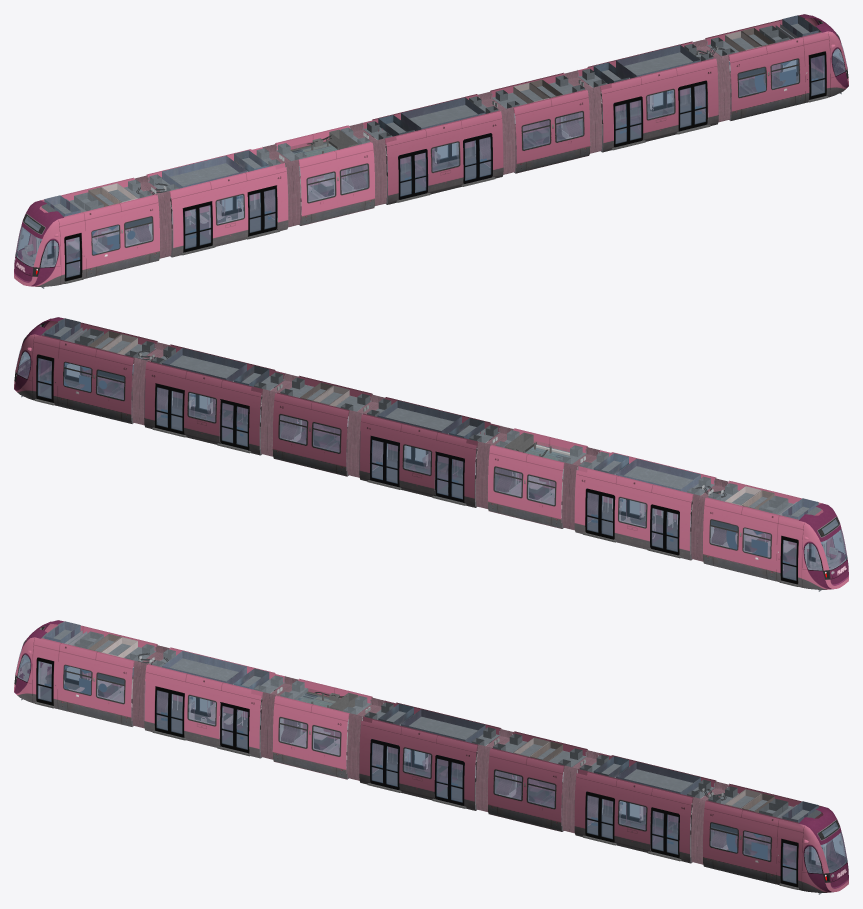
Rendered from tram.glb.
3 views of the same model, one above another, from view 1: azimuth 30°, elevation 25°; view 2: azimuth 150°, elevation 25°; view 3: azimuth 330°, elevation 25° (orthographic).
Parts seen in each view (by area): view 1: glink_seg1_lod0_glink_exterior01_0, glink_seg1_lod0.001_glink_exterior02_0, glink_seg4_lod0_glink_exterior03_0, glink_seg2_lod0.001_glink_exterior02_0, glink_seg2_lod0_glink_exterior01_0, glink_seg5_lod0_glink_exterior02_0, glink_seg3_lod0_glink_exterior01_0, glink_seg1_window_lod0.001_glink_exterior01_0, glink_seg2_mirror_lod0.002_glink_exterior01_0, glink_seg2_mirror_lod0_glink_exterior01_0, glink_seg2_mirror_lod0.001_glink_exterior01_0, glink_seg1_window_lod0_glink_exterior01_0 (+13 smaller); view 2: glink_seg1_lod0_glink_exterior01_0, glink_seg1_lod0.001_glink_exterior02_0, glink_seg4_lod0_glink_exterior03_0, glink_seg2_lod0.001_glink_exterior02_0, glink_seg2_lod0_glink_exterior01_0, glink_seg5_lod0_glink_exterior02_0, glink_seg3_lod0_glink_exterior01_0, glink_seg1_window_lod0.001_glink_exterior01_0, glink_seg2_mirror_lod0.002_glink_exterior01_0, glink_seg2_mirror_lod0_glink_exterior01_0, glink_seg2_mirror_lod0.001_glink_exterior01_0, glink_seg1_window_lod0_glink_exterior01_0 (+13 smaller); view 3: glink_seg1_lod0.001_glink_exterior02_0, glink_seg1_lod0_glink_exterior01_0, glink_seg4_lod0_glink_exterior03_0, glink_seg2_lod0.001_glink_exterior02_0, glink_seg2_lod0_glink_exterior01_0, glink_seg5_lod0_glink_exterior02_0, glink_seg3_lod0_glink_exterior01_0, glink_seg1_window_lod0_glink_exterior01_0, glink_seg2_mirror_lod0.002_glink_exterior01_0, glink_seg2_mirror_lod0.001_glink_exterior01_0, glink_seg2_mirror_lod0_glink_exterior01_0, glink_seg1_window_lod0.001_glink_exterior01_0 (+13 smaller).
Boxes of the visible parts, x1=… form: glink_seg1_lod0_glink_exterior01_0: x1=14, y1=177, x2=159, y2=286; glink_seg1_lod0.001_glink_exterior02_0: x1=705, y1=14, x2=848, y2=120; glink_seg4_lod0_glink_exterior03_0: x1=362, y1=94, x2=503, y2=204; glink_seg2_lod0.001_glink_exterior02_0: x1=578, y1=41, x2=718, y2=152; glink_seg2_lod0_glink_exterior01_0: x1=146, y1=147, x2=288, y2=257; glink_seg5_lod0_glink_exterior02_0: x1=490, y1=72, x2=590, y2=173; glink_seg3_lod0_glink_exterior01_0: x1=275, y1=125, x2=374, y2=225; glink_seg1_window_lod0.001_glink_exterior01_0: x1=15, y1=216, x2=152, y2=267; glink_seg2_mirror_lod0.002_glink_exterior01_0: x1=348, y1=93, x2=508, y2=204; glink_seg2_mirror_lod0_glink_exterior01_0: x1=564, y1=40, x2=724, y2=152; glink_seg2_mirror_lod0.001_glink_exterior01_0: x1=133, y1=145, x2=293, y2=257; glink_seg1_window_lod0_glink_exterior01_0: x1=729, y1=43, x2=847, y2=96; glink_seg1_lod0_glink_exterior01_0: x1=703, y1=480, x2=848, y2=589; glink_seg1_lod0.001_glink_exterior02_0: x1=14, y1=317, x2=157, y2=423; glink_seg4_lod0_glink_exterior03_0: x1=359, y1=397, x2=500, y2=507; glink_seg2_lod0.001_glink_exterior02_0: x1=144, y1=344, x2=284, y2=455; glink_seg2_lod0_glink_exterior01_0: x1=574, y1=450, x2=716, y2=560; glink_seg5_lod0_glink_exterior02_0: x1=272, y1=375, x2=372, y2=476; glink_seg3_lod0_glink_exterior01_0: x1=488, y1=428, x2=587, y2=528; glink_seg1_window_lod0.001_glink_exterior01_0: x1=710, y1=519, x2=847, y2=570; glink_seg2_mirror_lod0.002_glink_exterior01_0: x1=354, y1=396, x2=514, y2=507; glink_seg2_mirror_lod0_glink_exterior01_0: x1=139, y1=343, x2=298, y2=455; glink_seg2_mirror_lod0.001_glink_exterior01_0: x1=569, y1=448, x2=727, y2=560; glink_seg1_window_lod0_glink_exterior01_0: x1=15, y1=345, x2=133, y2=399; glink_seg1_lod0.001_glink_exterior02_0: x1=703, y1=783, x2=848, y2=892; glink_seg1_lod0_glink_exterior01_0: x1=14, y1=620, x2=157, y2=726; glink_seg4_lod0_glink_exterior03_0: x1=359, y1=700, x2=501, y2=810; glink_seg2_lod0.001_glink_exterior02_0: x1=574, y1=753, x2=716, y2=863; glink_seg2_lod0_glink_exterior01_0: x1=144, y1=647, x2=284, y2=758; glink_seg5_lod0_glink_exterior02_0: x1=488, y1=731, x2=587, y2=831; glink_seg3_lod0_glink_exterior01_0: x1=272, y1=678, x2=372, y2=779; glink_seg1_window_lod0_glink_exterior01_0: x1=710, y1=822, x2=847, y2=873; glink_seg2_mirror_lod0.002_glink_exterior01_0: x1=354, y1=699, x2=514, y2=810; glink_seg2_mirror_lod0.001_glink_exterior01_0: x1=138, y1=646, x2=298, y2=758; glink_seg2_mirror_lod0_glink_exterior01_0: x1=569, y1=751, x2=727, y2=863; glink_seg1_window_lod0.001_glink_exterior01_0: x1=15, y1=648, x2=133, y2=702.
Size of the model in its own units: 45.04 by 3.71 by 2.86.
4 materials, 4 textured.
